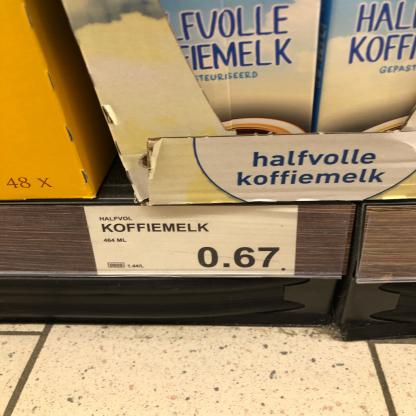prtg: (83, 206, 301, 277)
